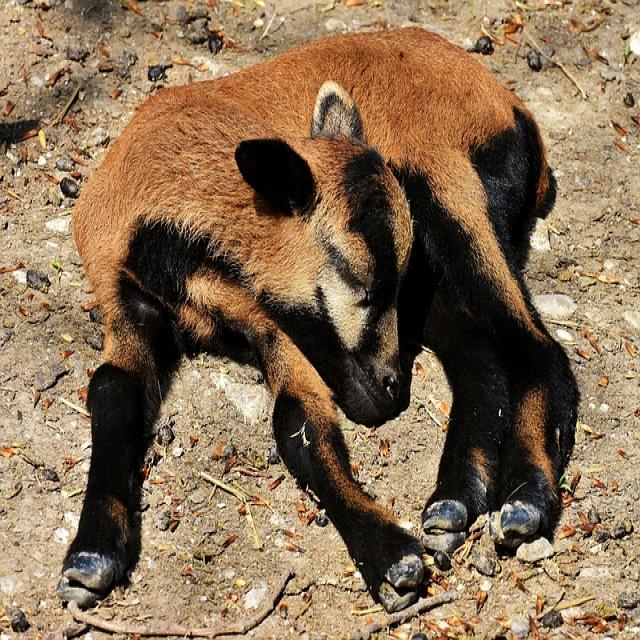sheep: (57, 24, 579, 613)
